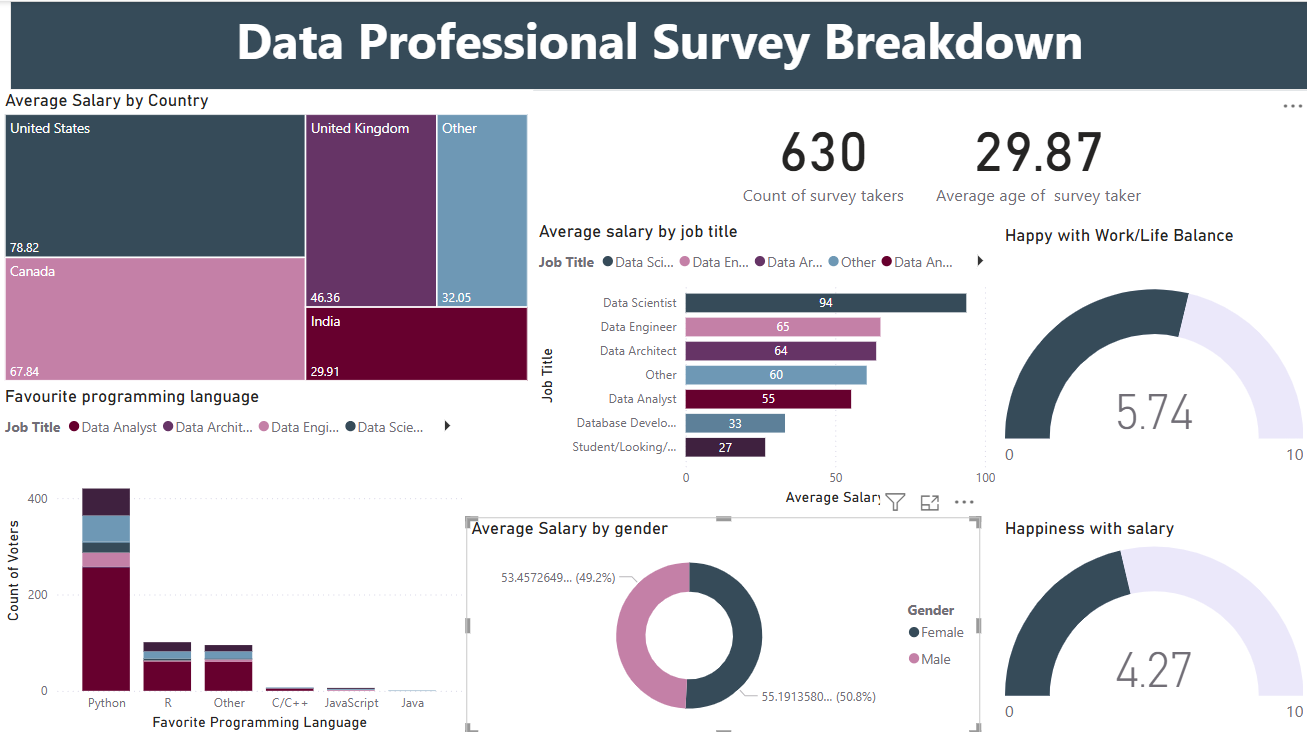

What the dashboard file says about the page in this screenshot:
{"tool":"powerbi","page":{"name":"Page 1","canvas":[1280,720],"ordinal":0},"visuals":[{"type":"textbox","box":[9.2,0,1271.1,87.4],"z":0},{"type":"card","fields":{"Values":["Count(Data Professional Survey.Unique ID)"]},"box":[708.6,88.1,195.1,126],"z":1000},{"type":"card","fields":{"Values":["Avg(Data Professional Survey.Q10 - Current Age)"]},"box":[903.6,88.1,224.9,126],"z":2000},{"type":"barChart","title":"Average salary by job title","fields":{"Category":["Data Professional Survey.Q1 - Which Title Best Fits your Current Role?.1"],"Y":["Avg(Data Professional Survey.Average Salery)"],"Series":["Data Professional Survey.Q1 - Which Title Best Fits your Current Role?.1"]},"box":[521.6,215.4,456.6,283.2],"z":3000},{"type":"barChart","title":"Favourite programming language","fields":{"Category":["Data Professional Survey.Q5 - Favorite Programming Language.1"],"Y":["CountNonNull(Data Professional Survey.Unique ID)"],"Series":["Data Professional Survey.Q1 - Which Title Best Fits your Current Role?.1"]},"box":[0,377.2,456.9,341.9],"z":4000},{"type":"treemap","title":"Average Salary by Country","fields":{"Group":["Data Professional Survey.Q11 - Which Country do you live in?.1"],"Values":["Avg(Data Professional Survey.Average Salery)"]},"box":[0,87.4,521.3,289.8],"z":5000},{"type":"gauge","title":"Happy with Work/Life Balance","fields":{"Y":["Avg(Data Professional Survey.Q6 - How Happy are you in your Current Position with the following? (Work/Life Balance))"],"MaxValue":["Max(Data Professional Survey.Q6 - How Happy are you in your Current Position with the following? (Work/Life Balance))1"],"MinValue":["Min(Data Professional Survey.Q6 - How Happy are you in your Current Position with the following? (Work/Life Balance))"]},"box":[978.2,219.3,302.1,285.2],"z":6000},{"type":"gauge","title":"Happiness with salary","fields":{"Y":["Avg(Data Professional Survey.Q6 - How Happy are you in your Current Position with the following? (Salary))"],"MinValue":["Min(Data Professional Survey.Q6 - How Happy are you in your Current Position with the following? (Salary))"],"MaxValue":["Max(Data Professional Survey.Q6 - How Happy are you in your Current Position with the following? (Salary))"]},"box":[978.2,504.5,302.1,216.2],"z":7000},{"type":"donutChart","title":"Average Salary by gender","fields":{"Category":["Data Professional Survey.Q9 - Male/Female?"],"Y":["Avg(Data Professional Survey.Average Salery)"]},"box":[456.6,505.3,502.6,212.7],"z":8000}]}

Visuals, with their boxes in screenshot pixels (x1, y1, x2, y2), scaled from the page's 1280x720 canvas onto the 1307x732 screenshot:
textbox: [x1=9, y1=0, x2=1306, y2=89]
card - Count(Data Professional Survey.Unique ID): [x1=724, y1=90, x2=923, y2=218]
card - Avg(Data Professional Survey.Q10 - Current Age): [x1=923, y1=90, x2=1152, y2=218]
"Average salary by job title" barChart: [x1=533, y1=219, x2=999, y2=507]
"Favourite programming language" barChart: [x1=0, y1=383, x2=467, y2=731]
"Average Salary by Country" treemap: [x1=0, y1=89, x2=532, y2=383]
"Happy with Work/Life Balance" gauge: [x1=999, y1=223, x2=1306, y2=513]
"Happiness with salary" gauge: [x1=999, y1=513, x2=1306, y2=731]
"Average Salary by gender" donutChart: [x1=466, y1=514, x2=979, y2=730]
